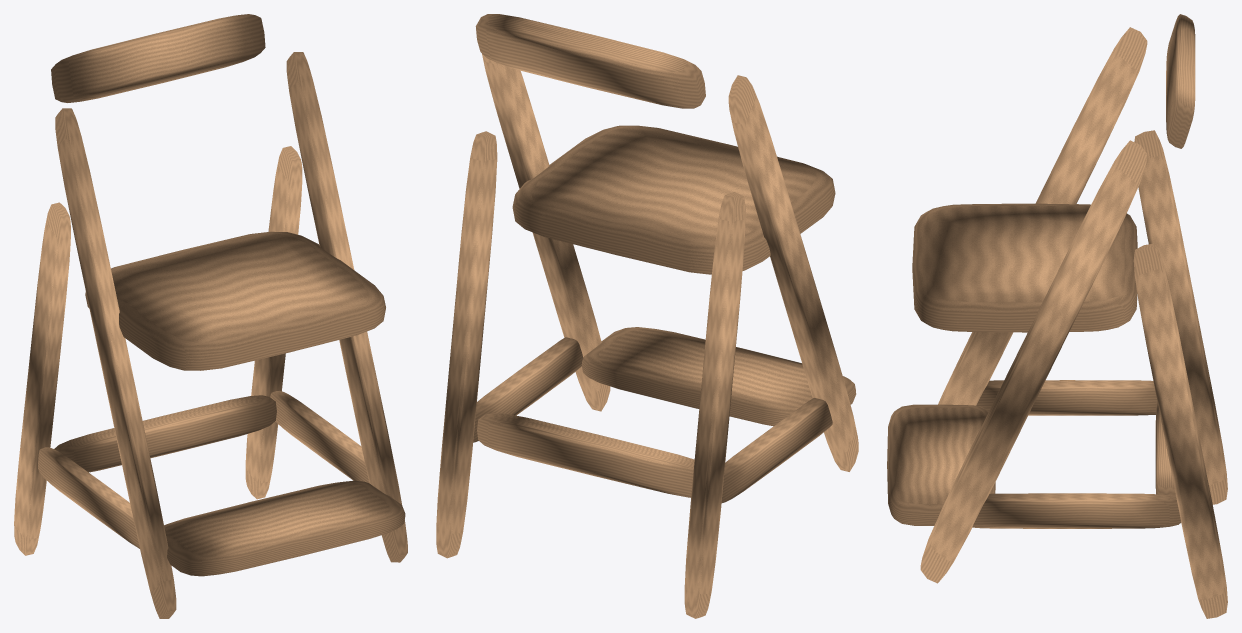
The picture shows the model from 3 angles, left to right: view 1: azimuth 30°, elevation 25°; view 2: azimuth 150°, elevation 25°; view 3: azimuth 270°, elevation 25°; orthographic projection. The views are drawn at different scales.
Visible parts, largest first — view 1: 1 seat, 3 left_front_rail, 10 footrest, 4 right_front_rail, 2 backrest, 5 left_rear_leg, 9 rear_stretcher, 6 right_rear_leg, 7 left_side_stretcher, 8 right_side_stretcher; view 2: 1 seat, 3 left_front_rail, 5 left_rear_leg, 6 right_rear_leg, 10 footrest, 2 backrest, 4 right_front_rail, 9 rear_stretcher, 7 left_side_stretcher, 8 right_side_stretcher; view 3: 1 seat, 4 right_front_rail, 6 right_rear_leg, 3 left_front_rail, 5 left_rear_leg, 10 footrest, 8 right_side_stretcher, 7 left_side_stretcher, 2 backrest, 9 rear_stretcher.
Part boxes in pixels (bbox=[...]): 1 seat: bbox=[85, 231, 385, 370]; 3 left_front_rail: bbox=[55, 108, 176, 618]; 10 footrest: bbox=[164, 480, 405, 576]; 4 right_front_rail: bbox=[286, 52, 407, 562]; 2 backrest: bbox=[51, 14, 265, 102]; 5 left_rear_leg: bbox=[14, 202, 70, 555]; 9 rear_stretcher: bbox=[54, 395, 276, 472]; 6 right_rear_leg: bbox=[245, 146, 302, 499]; 7 left_side_stretcher: bbox=[38, 447, 139, 548]; 8 right_side_stretcher: bbox=[270, 390, 369, 482]; 1 seat: bbox=[512, 125, 835, 274]; 3 left_front_rail: bbox=[728, 75, 858, 471]; 5 left_rear_leg: bbox=[684, 192, 745, 618]; 6 right_rear_leg: bbox=[436, 131, 497, 558]; 10 footrest: bbox=[581, 327, 856, 426]; 2 backrest: bbox=[475, 14, 705, 108]; 4 right_front_rail: bbox=[482, 54, 610, 411]; 9 rear_stretcher: bbox=[477, 413, 694, 497]; 7 left_side_stretcher: bbox=[721, 398, 832, 502]; 8 right_side_stretcher: bbox=[473, 337, 583, 442]; 1 seat: bbox=[912, 203, 1137, 332]; 4 right_front_rail: bbox=[920, 140, 1147, 583]; 6 right_rear_leg: bbox=[1133, 243, 1227, 618]; 3 left_front_rail: bbox=[938, 27, 1147, 405]; 5 left_rear_leg: bbox=[1134, 130, 1227, 504]; 10 footrest: bbox=[887, 404, 995, 525]; 8 right_side_stretcher: bbox=[972, 493, 1181, 528]; 7 left_side_stretcher: bbox=[976, 380, 1156, 415]; 2 backrest: bbox=[1166, 14, 1195, 148]; 9 rear_stretcher: bbox=[1155, 400, 1176, 496].
Size of the model in its own units: 0.4064 by 0.7874 by 0.4826.
Materials: 1 (1 with a texture image).
